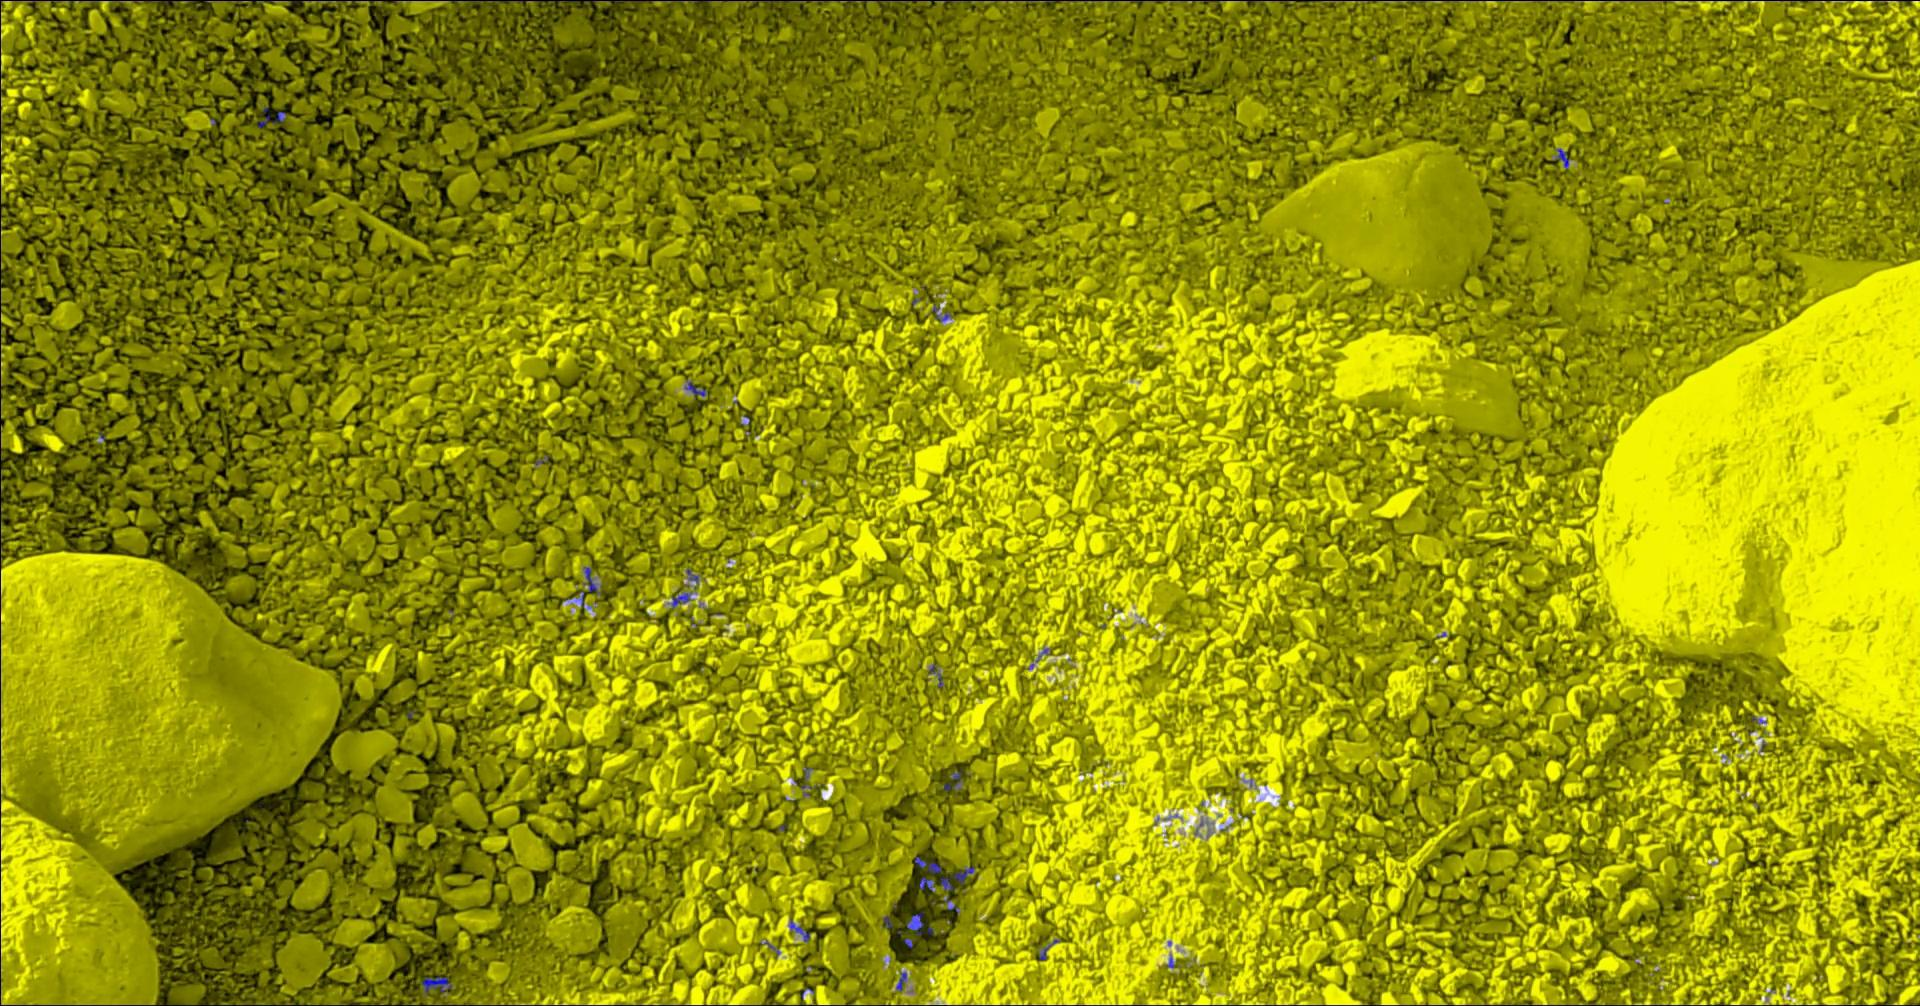ant: (938, 866, 974, 890), (257, 105, 286, 127), (801, 766, 823, 795), (420, 976, 451, 993), (583, 567, 599, 594), (914, 856, 941, 873), (789, 920, 809, 941), (905, 911, 924, 934), (943, 768, 961, 791), (1550, 149, 1568, 169), (684, 381, 705, 399), (670, 591, 691, 608), (931, 304, 950, 321), (928, 664, 942, 687), (918, 876, 935, 892), (895, 970, 905, 989), (745, 0, 811, 1)
